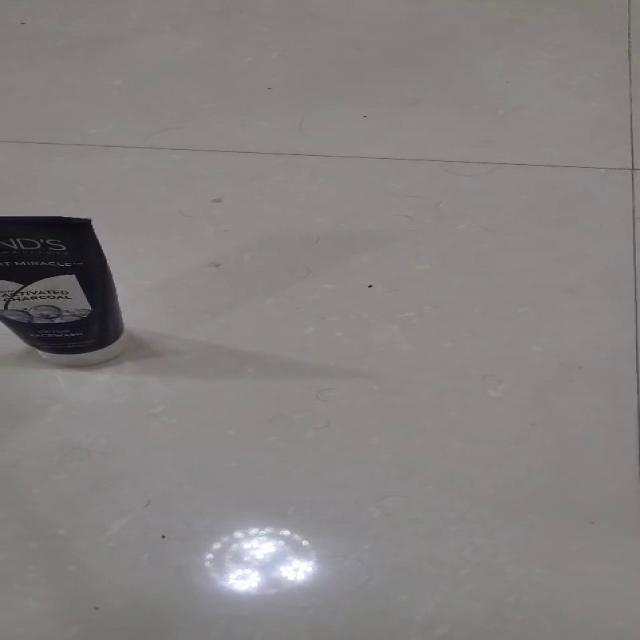plastic: (0, 215, 127, 366)
